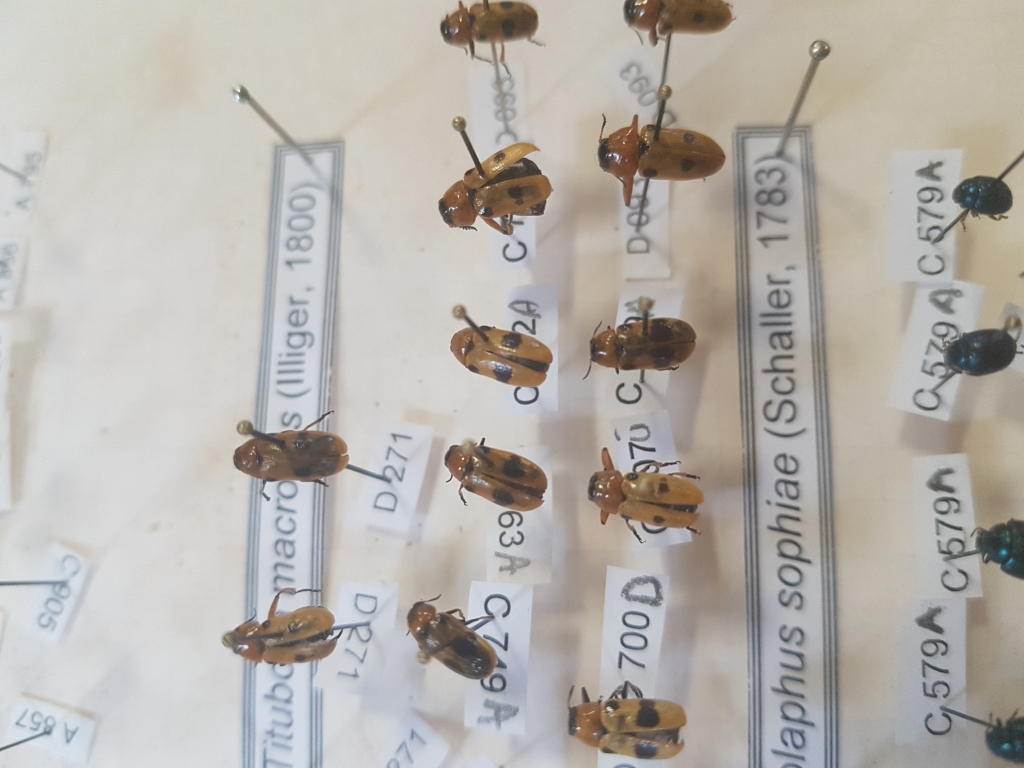Tituboea_macropus: (588, 106, 724, 210), (558, 669, 694, 766), (580, 437, 709, 538), (438, 133, 550, 240), (223, 582, 345, 671), (440, 428, 552, 523), (228, 418, 352, 496), (584, 305, 699, 386), (403, 587, 501, 681), (436, 1, 544, 82), (442, 316, 554, 394), (614, 1, 734, 48)
